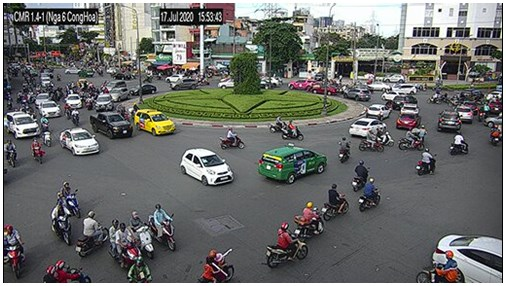xe_ban_tai: (90, 112, 132, 140)
xe_hoi: (435, 233, 502, 285), (258, 147, 328, 185), (180, 149, 233, 186), (134, 109, 175, 136), (60, 128, 100, 155), (5, 111, 41, 139), (350, 118, 387, 139), (437, 111, 460, 133), (366, 104, 391, 122), (395, 112, 420, 130), (344, 89, 371, 103), (108, 87, 131, 102), (289, 79, 317, 91), (169, 78, 197, 90), (130, 84, 156, 96), (41, 101, 59, 118), (455, 105, 471, 123), (392, 96, 416, 108), (392, 83, 416, 95), (310, 84, 338, 94), (94, 95, 113, 109), (367, 81, 389, 92), (381, 90, 404, 100), (66, 93, 81, 108), (34, 92, 50, 105), (401, 102, 417, 114), (165, 73, 185, 82), (112, 72, 133, 80), (38, 76, 51, 87), (216, 79, 236, 86), (66, 67, 79, 74)
xe_may: (264, 221, 309, 266), (109, 219, 142, 273), (76, 211, 111, 257), (194, 248, 236, 283), (147, 203, 176, 253), (128, 210, 155, 259), (3, 223, 25, 279), (292, 200, 325, 237), (323, 183, 351, 223), (44, 261, 93, 283), (51, 199, 72, 246), (57, 181, 80, 219), (358, 176, 381, 214), (219, 127, 246, 151), (396, 129, 423, 152), (416, 148, 436, 179), (352, 160, 370, 193), (447, 131, 470, 156), (359, 130, 382, 154), (280, 120, 304, 142), (4, 139, 19, 167), (268, 116, 292, 133), (39, 121, 54, 148), (376, 127, 395, 147), (337, 136, 351, 162), (32, 139, 44, 164), (489, 125, 501, 147), (71, 108, 81, 126), (474, 105, 485, 120), (85, 94, 94, 112), (427, 93, 439, 104), (64, 101, 70, 120)
